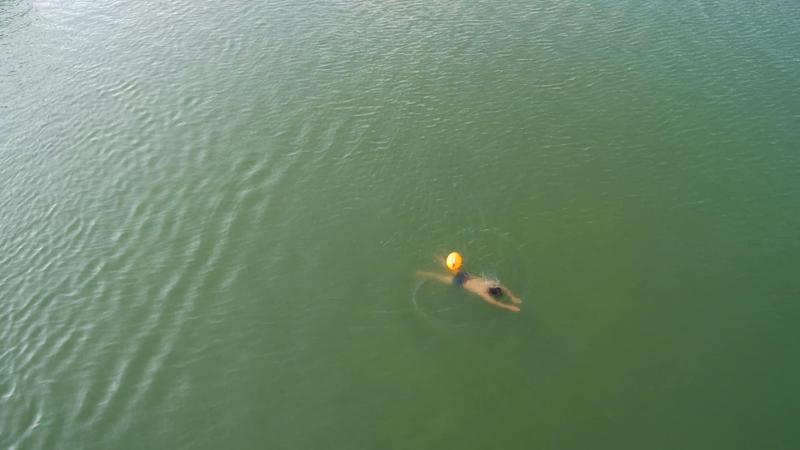swimmers: (418, 251, 524, 313)
